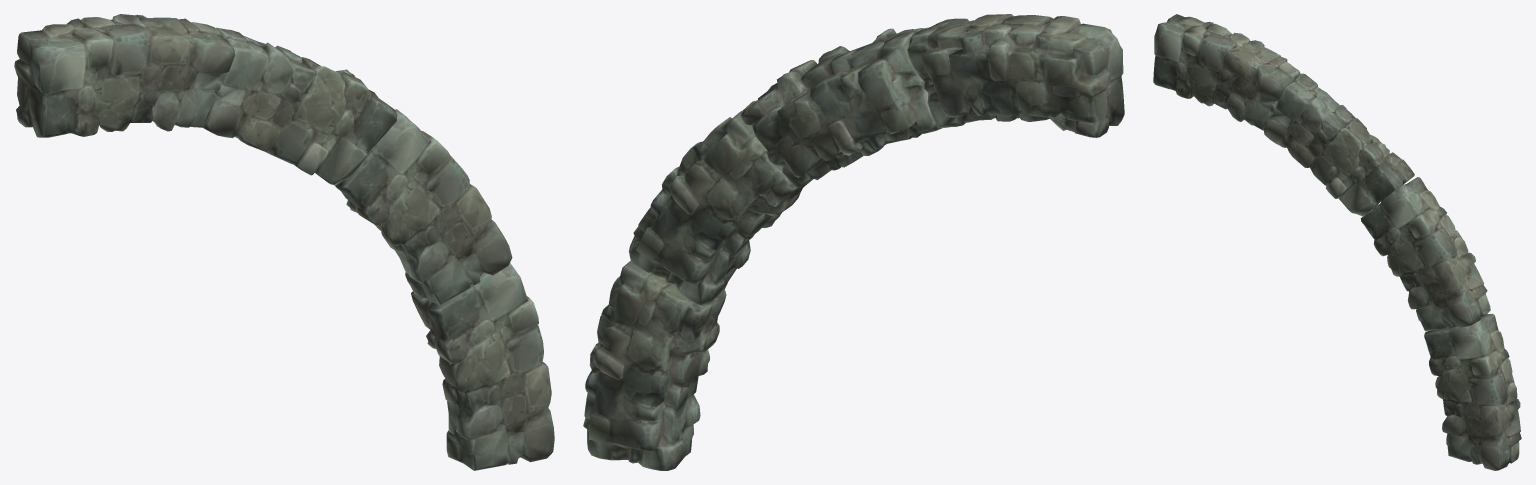
Rendered from Wall_Cnr_Top_Bend_B.fbx.
The picture shows the model from 3 angles, left to right: view 1: azimuth 30°, elevation 25°; view 2: azimuth 150°, elevation 25°; view 3: azimuth 330°, elevation 25°; orthographic projection. The views are drawn at different scales.
Visible parts, largest first — view 1: Wall_Cnr_Top_Bend_B; view 2: Wall_Cnr_Top_Bend_B; view 3: Wall_Cnr_Top_Bend_B.
Part boxes in pixels (x1,y1,x2,y2): Wall_Cnr_Top_Bend_B: (14,14,554,470); Wall_Cnr_Top_Bend_B: (583,14,1124,470); Wall_Cnr_Top_Bend_B: (1153,14,1521,470).
Size of the model in its own units: 2400 by 2357 by 304.
